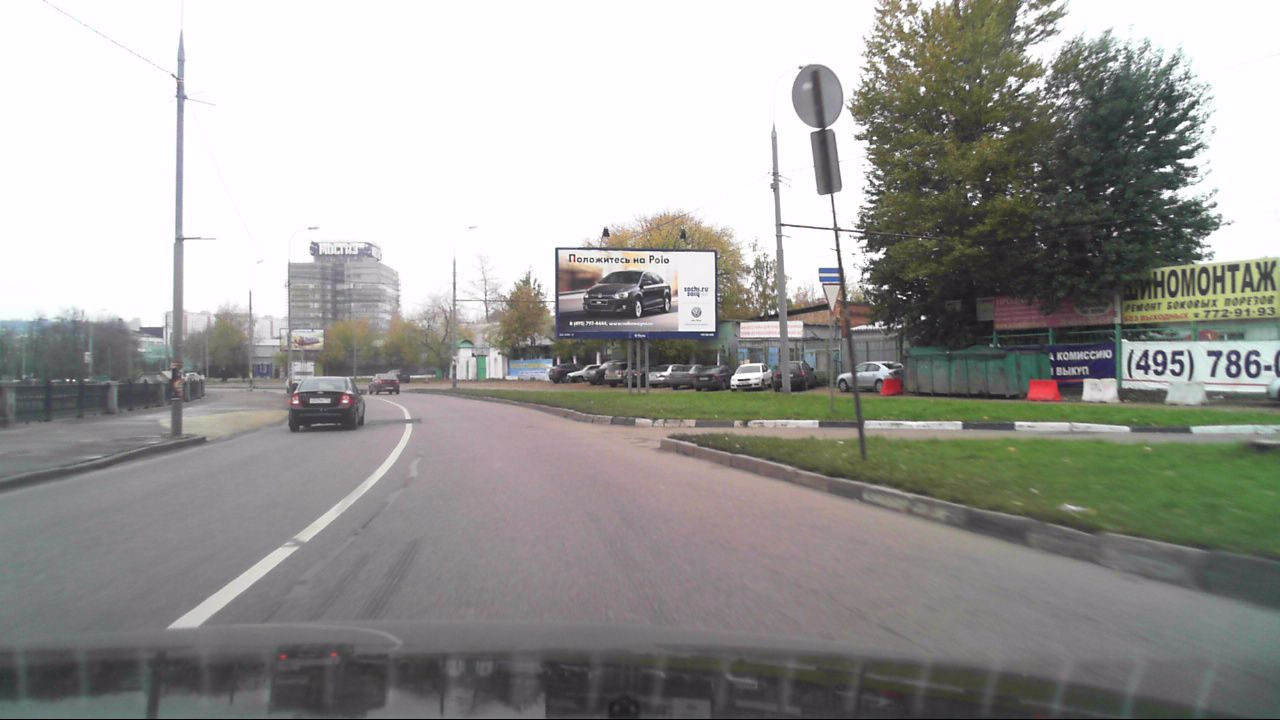One-Way Traffic: (818, 268, 845, 282)
